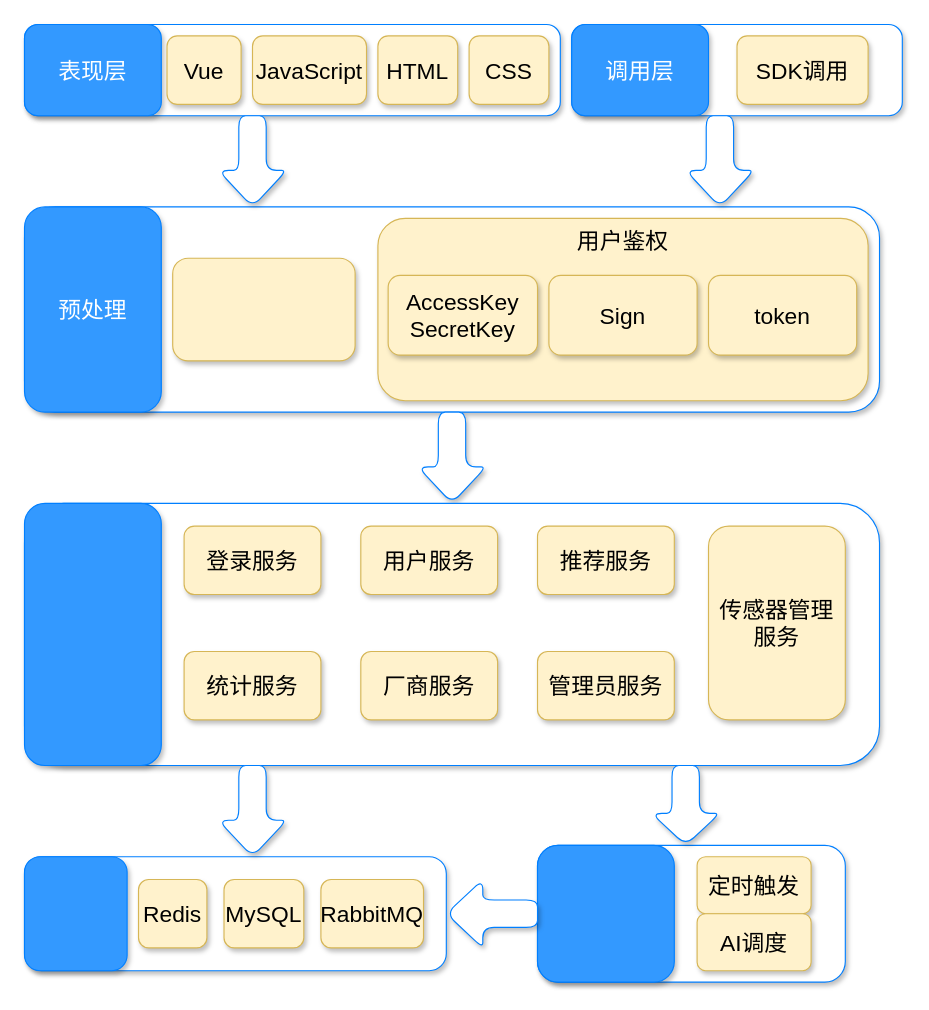
Some shapes in this 929 by 1010 pixel diagram are drawn without their labels. Each missing label, with the centre of its shape:
Redis限流: the point at 264,311
持久层: the point at 76,915
服务层: the point at 93,635
调度: the point at 606,915
